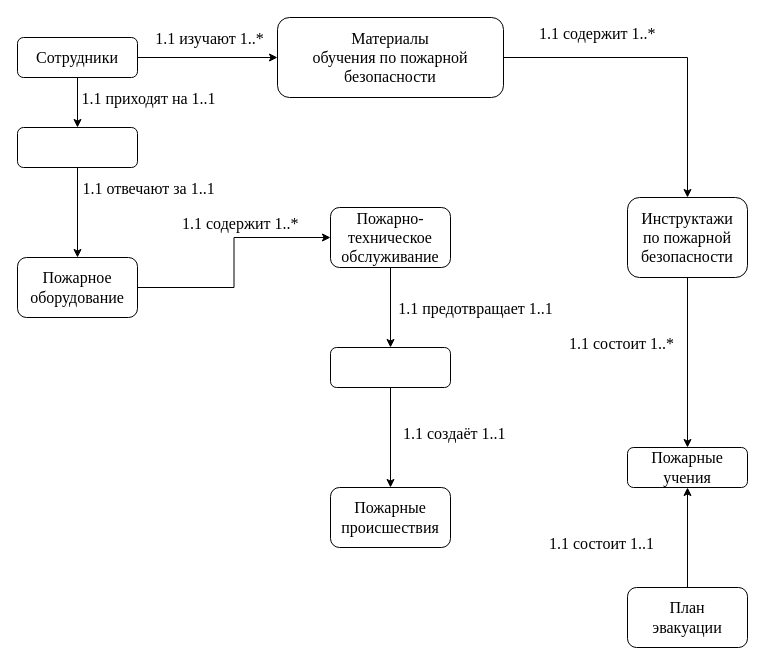
This 765x665 diagram has some shape labels left out. The centre of each missing label's shape, as x and y in pixels:
Причины: the point at 390,367
Смена: the point at 77,147
